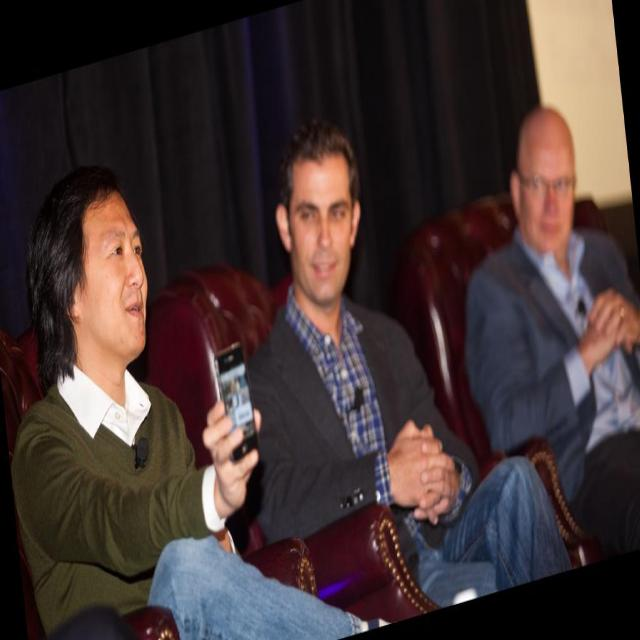phone: (215, 336, 259, 462)
